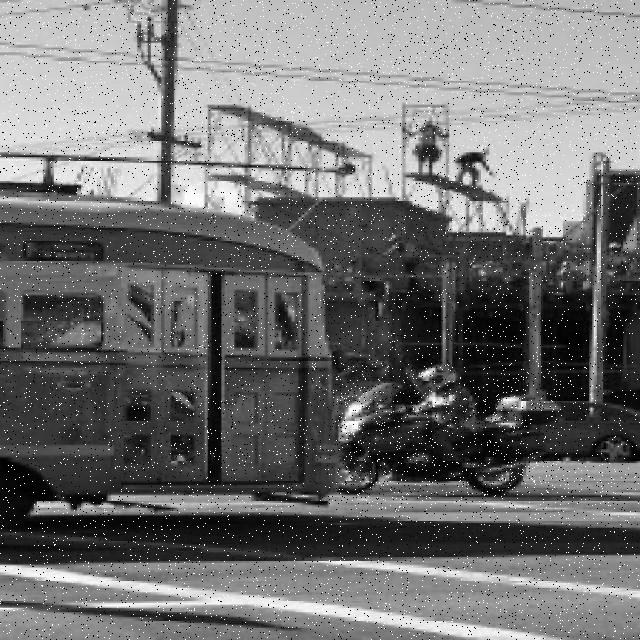Motorbike: (336, 365, 561, 495)
